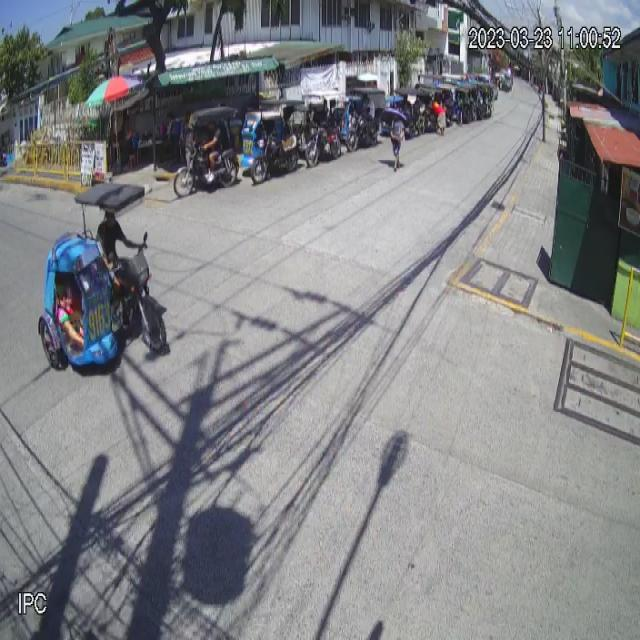Tricycle: (38, 181, 169, 374)
